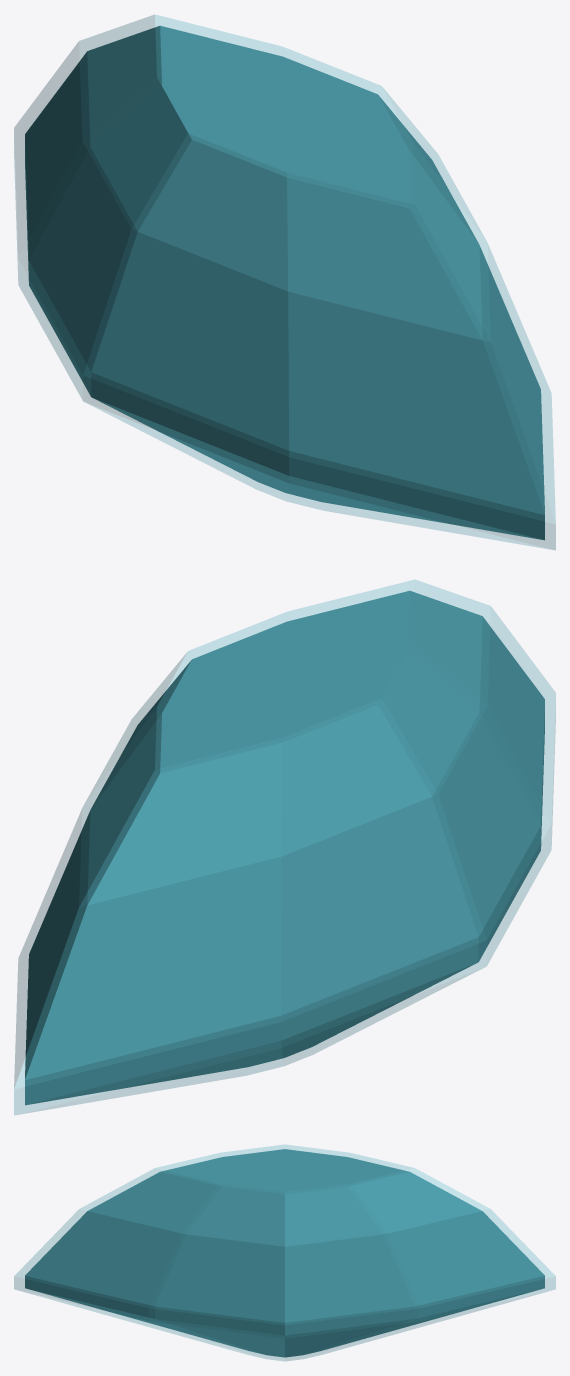
File: item_gem2.glb
3 renders of one model, top to bottom at view 1: azimuth 30°, elevation 25°; view 2: azimuth 150°, elevation 25°; view 3: azimuth 270°, elevation 25°, orthographic. The views are drawn at different scales.
Parts seen in each view (by area): view 1: jewellery_gem2_glass, jewellery_gem2; view 2: jewellery_gem2_glass, jewellery_gem2; view 3: jewellery_gem2_glass, jewellery_gem2.
Part boxes in pixels (x1,y1,x2,y2): jewellery_gem2_glass: (14, 15, 555, 550); jewellery_gem2: (25, 25, 544, 540); jewellery_gem2_glass: (14, 580, 555, 1115); jewellery_gem2: (25, 590, 544, 1105); jewellery_gem2_glass: (14, 1144, 555, 1361); jewellery_gem2: (25, 1149, 544, 1357).
Bounding box in the file's own units: 0.43 × 0.38 × 1.
